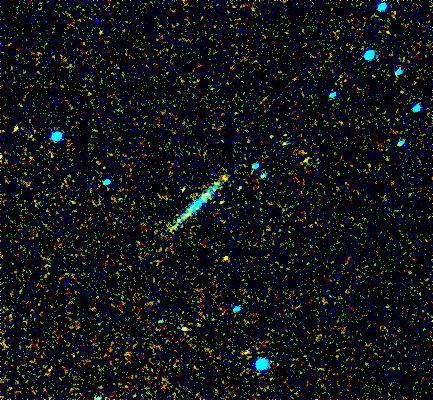star: (212, 240, 242, 270)
